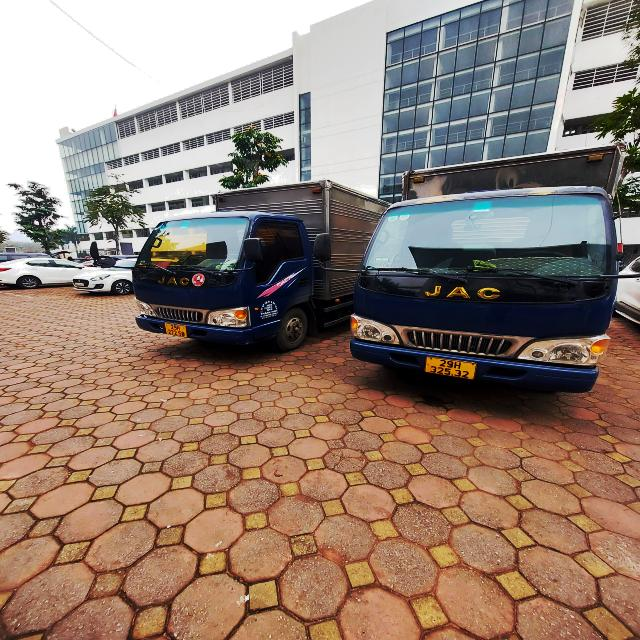license_plate: (425, 357, 477, 380), (166, 324, 188, 339)
